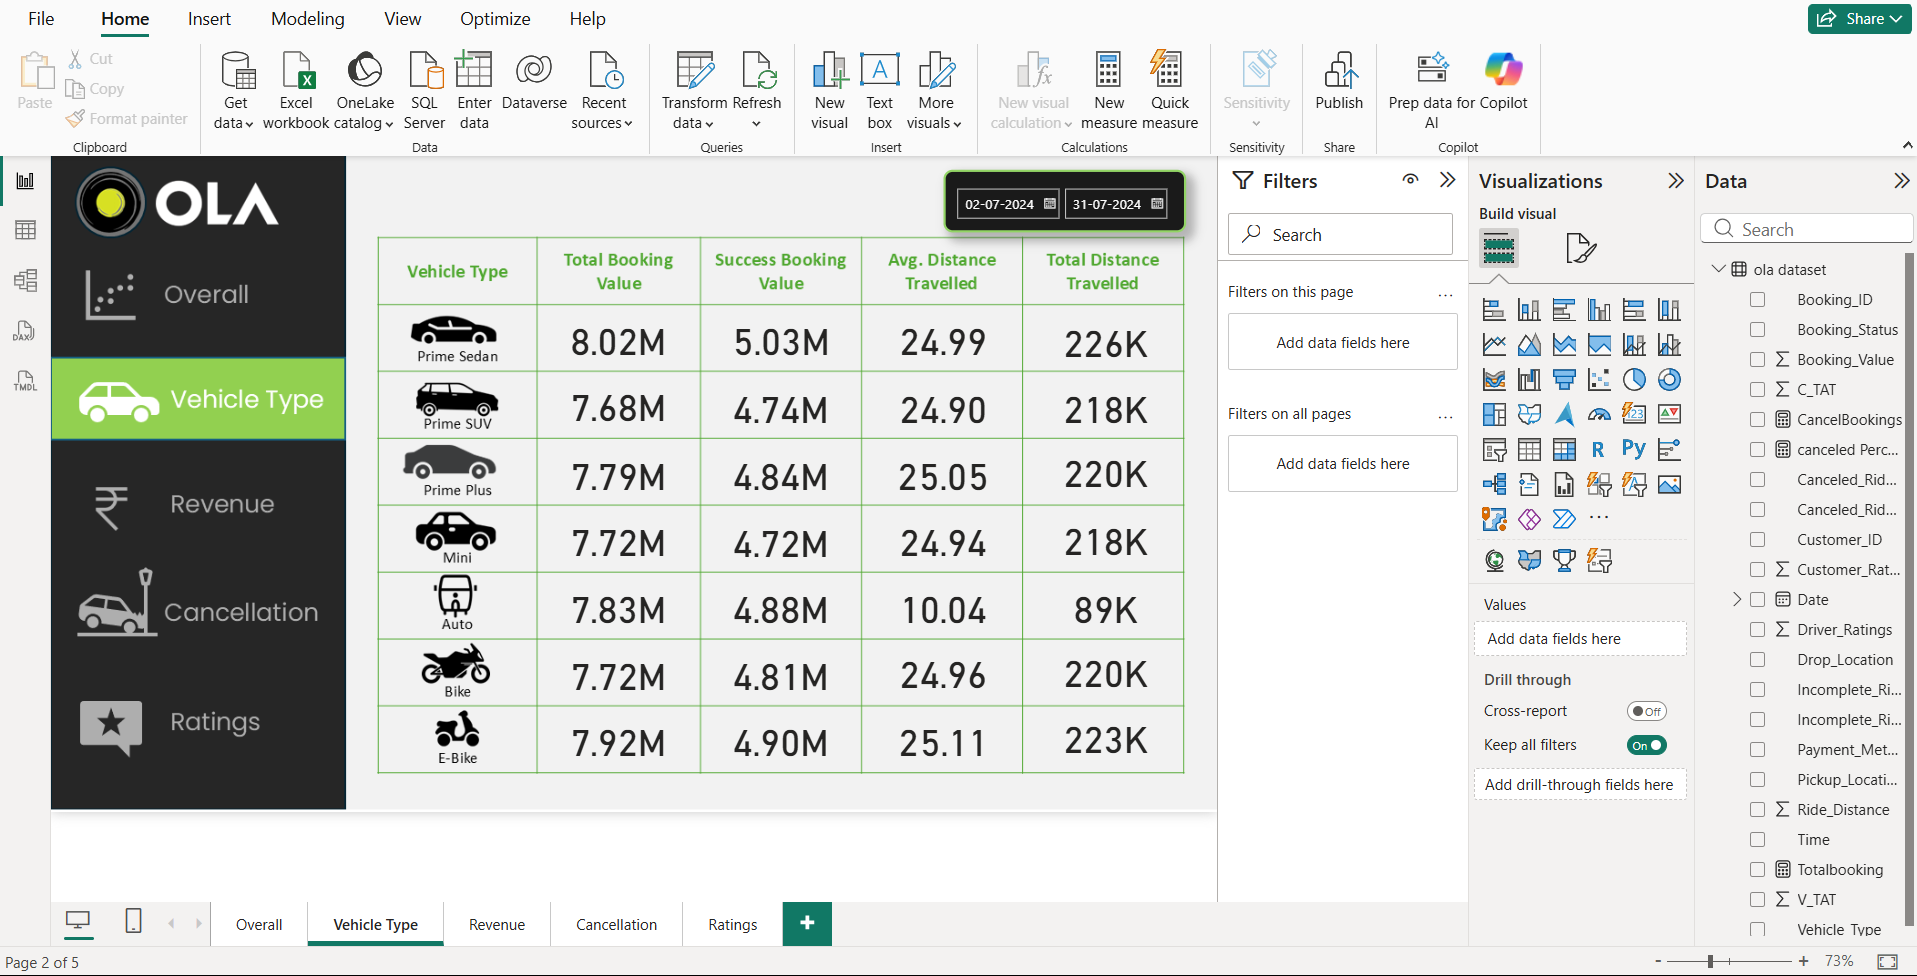

Layout of this report page (visuals, bound fields, positions):
{"tool":"powerbi","page":{"name":"Vehicle Type","canvas":[1280,720],"ordinal":1},"visuals":[{"type":"actionButton","box":[0,341.4,325.7,85.7],"z":1},{"type":"actionButton","box":[0,341.4,325.7,85.7],"z":2},{"type":"actionButton","box":[0,446.4,325.7,85.7],"z":3},{"type":"actionButton","box":[0,582.7,325.7,85.7],"z":4},{"type":"actionButton","box":[0,109.8,325.7,85.7],"z":5},{"type":"card","fields":{"Values":["Sum(ola dataset.Booking_Value)"]},"box":[533.2,162.9,178.6,72.4],"z":6},{"type":"card","fields":{"Values":["Sum(ola dataset.Booking_Value)"]},"box":[533.8,236,178.6,72.4],"z":7},{"type":"card","fields":{"Values":["Sum(ola dataset.Booking_Value)"]},"box":[533.8,311.5,178.6,72.4],"z":8},{"type":"card","fields":{"Values":["Sum(ola dataset.Booking_Value)"]},"box":[533.8,384.2,178.6,72.4],"z":9},{"type":"card","fields":{"Values":["Sum(ola dataset.Booking_Value)"]},"box":[533.8,458.3,178.6,72.4],"z":10},{"type":"card","fields":{"Values":["Sum(ola dataset.Booking_Value)"]},"box":[533.8,531,178.6,72.4],"z":11},{"type":"card","fields":{"Values":["Sum(ola dataset.Booking_Value)"]},"box":[533.8,603.8,178.6,72.4],"z":12},{"type":"card","fields":{"Values":["Sum(ola dataset.Booking_Value)"]},"box":[712.2,163.3,178.6,72.4],"z":13},{"type":"card","fields":{"Values":["Sum(ola dataset.Booking_Value)"]},"box":[712.2,238.8,178.6,72.4],"z":14},{"type":"card","fields":{"Values":["Sum(ola dataset.Booking_Value)"]},"box":[712.2,311.5,178.6,72.4],"z":15},{"type":"card","fields":{"Values":["Sum(ola dataset.Booking_Value)"]},"box":[712.2,385.6,178.6,72.4],"z":16},{"type":"card","fields":{"Values":["Sum(ola dataset.Booking_Value)"]},"box":[712.2,458.3,178.6,72.4],"z":17},{"type":"card","fields":{"Values":["Sum(ola dataset.Booking_Value)"]},"box":[712.2,531,178.6,72.4],"z":18},{"type":"card","fields":{"Values":["Sum(ola dataset.Booking_Value)"]},"box":[712.2,603.8,178.6,72.4],"z":19},{"type":"card","fields":{"Values":["Avg(ola dataset.Ride_Distance)"]},"box":[890.6,163.3,178.6,72.4],"z":20},{"type":"card","fields":{"Values":["Avg(ola dataset.Ride_Distance)"]},"box":[890.6,238.8,178.6,72.4],"z":21},{"type":"card","fields":{"Values":["Avg(ola dataset.Ride_Distance)"]},"box":[890.6,311.5,178.6,72.4],"z":22},{"type":"card","fields":{"Values":["Avg(ola dataset.Ride_Distance)"]},"box":[890.6,384.2,178.6,72.4],"z":23},{"type":"card","fields":{"Values":["Avg(ola dataset.Ride_Distance)"]},"box":[890.6,458.3,178.6,72.4],"z":24},{"type":"card","fields":{"Values":["Avg(ola dataset.Ride_Distance)"]},"box":[890.6,529.7,178.6,72.4],"z":25},{"type":"card","fields":{"Values":["Avg(ola dataset.Ride_Distance)"]},"box":[890.6,603.8,178.6,72.4],"z":26},{"type":"card","fields":{"Values":["Sum(ola dataset.Ride_Distance)"]},"box":[1069,166,178.6,72.4],"z":27},{"type":"card","fields":{"Values":["Sum(ola dataset.Ride_Distance)"]},"box":[1069,238.8,178.6,72.4],"z":28},{"type":"card","fields":{"Values":["Sum(ola dataset.Ride_Distance)"]},"box":[1069,308.7,178.6,72.4],"z":29},{"type":"card","fields":{"Values":["Sum(ola dataset.Ride_Distance)"]},"box":[1069,382.8,178.6,72.4],"z":30},{"type":"card","fields":{"Values":["Sum(ola dataset.Ride_Distance)"]},"box":[1069,458.3,178.6,72.4],"z":31},{"type":"card","fields":{"Values":["Sum(ola dataset.Ride_Distance)"]},"box":[1069,528.3,178.6,72.4],"z":32},{"type":"card","fields":{"Values":["Sum(ola dataset.Ride_Distance)"]},"box":[1069,601,178.6,72.4],"z":33},{"type":"slicer","title":"Date","fields":{"Values":["ola dataset.Date"]},"box":[979.8,15.1,266.2,68.6],"z":34}]}

Visuals, with their boxes on the page's 1280x720 design canvas (x1, y1, x2, y2). These are canvas units, not pixel positions in the 1917x976 screenshot, which may show the page scaled, cropped or inside an application window:
actionButton: {"x1": 0, "y1": 341, "x2": 326, "y2": 427}
actionButton: {"x1": 0, "y1": 341, "x2": 326, "y2": 427}
actionButton: {"x1": 0, "y1": 446, "x2": 326, "y2": 532}
actionButton: {"x1": 0, "y1": 583, "x2": 326, "y2": 668}
actionButton: {"x1": 0, "y1": 110, "x2": 326, "y2": 196}
card - Sum(ola dataset.Booking_Value): {"x1": 533, "y1": 163, "x2": 712, "y2": 235}
card - Sum(ola dataset.Booking_Value): {"x1": 534, "y1": 236, "x2": 712, "y2": 308}
card - Sum(ola dataset.Booking_Value): {"x1": 534, "y1": 312, "x2": 712, "y2": 384}
card - Sum(ola dataset.Booking_Value): {"x1": 534, "y1": 384, "x2": 712, "y2": 457}
card - Sum(ola dataset.Booking_Value): {"x1": 534, "y1": 458, "x2": 712, "y2": 531}
card - Sum(ola dataset.Booking_Value): {"x1": 534, "y1": 531, "x2": 712, "y2": 603}
card - Sum(ola dataset.Booking_Value): {"x1": 534, "y1": 604, "x2": 712, "y2": 676}
card - Sum(ola dataset.Booking_Value): {"x1": 712, "y1": 163, "x2": 891, "y2": 236}
card - Sum(ola dataset.Booking_Value): {"x1": 712, "y1": 239, "x2": 891, "y2": 311}
card - Sum(ola dataset.Booking_Value): {"x1": 712, "y1": 312, "x2": 891, "y2": 384}
card - Sum(ola dataset.Booking_Value): {"x1": 712, "y1": 386, "x2": 891, "y2": 458}
card - Sum(ola dataset.Booking_Value): {"x1": 712, "y1": 458, "x2": 891, "y2": 531}
card - Sum(ola dataset.Booking_Value): {"x1": 712, "y1": 531, "x2": 891, "y2": 603}
card - Sum(ola dataset.Booking_Value): {"x1": 712, "y1": 604, "x2": 891, "y2": 676}
card - Avg(ola dataset.Ride_Distance): {"x1": 891, "y1": 163, "x2": 1069, "y2": 236}
card - Avg(ola dataset.Ride_Distance): {"x1": 891, "y1": 239, "x2": 1069, "y2": 311}
card - Avg(ola dataset.Ride_Distance): {"x1": 891, "y1": 312, "x2": 1069, "y2": 384}
card - Avg(ola dataset.Ride_Distance): {"x1": 891, "y1": 384, "x2": 1069, "y2": 457}
card - Avg(ola dataset.Ride_Distance): {"x1": 891, "y1": 458, "x2": 1069, "y2": 531}
card - Avg(ola dataset.Ride_Distance): {"x1": 891, "y1": 530, "x2": 1069, "y2": 602}
card - Avg(ola dataset.Ride_Distance): {"x1": 891, "y1": 604, "x2": 1069, "y2": 676}
card - Sum(ola dataset.Ride_Distance): {"x1": 1069, "y1": 166, "x2": 1248, "y2": 238}
card - Sum(ola dataset.Ride_Distance): {"x1": 1069, "y1": 239, "x2": 1248, "y2": 311}
card - Sum(ola dataset.Ride_Distance): {"x1": 1069, "y1": 309, "x2": 1248, "y2": 381}
card - Sum(ola dataset.Ride_Distance): {"x1": 1069, "y1": 383, "x2": 1248, "y2": 455}
card - Sum(ola dataset.Ride_Distance): {"x1": 1069, "y1": 458, "x2": 1248, "y2": 531}
card - Sum(ola dataset.Ride_Distance): {"x1": 1069, "y1": 528, "x2": 1248, "y2": 601}
card - Sum(ola dataset.Ride_Distance): {"x1": 1069, "y1": 601, "x2": 1248, "y2": 673}
"Date" slicer: {"x1": 980, "y1": 15, "x2": 1246, "y2": 84}
